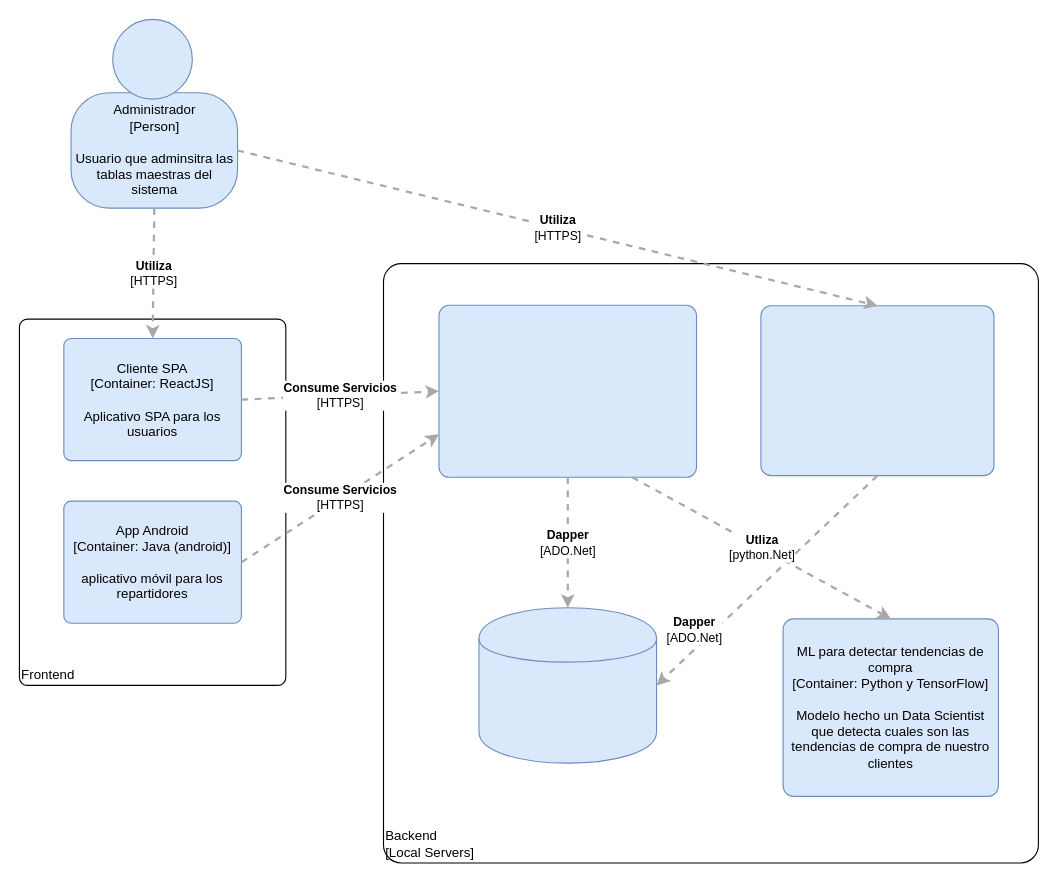
The diagram is 1058 pixels wide and 882 high, and some of its shapes have lost their labels. Here are the shapes that lost their labels. From the top down, the centre of each, then its label:
At (567,390): "Web Api [Container: ASP.Net Core y SignalR ] Servicios Web Core del aplicativo".
At (877,390): "MVC [Container: ASP.Net Framework 4.6 ] Aplicativo MVC".
At (567,685): "Database [Container: MSSQL Server] Base de datos Northwind".
